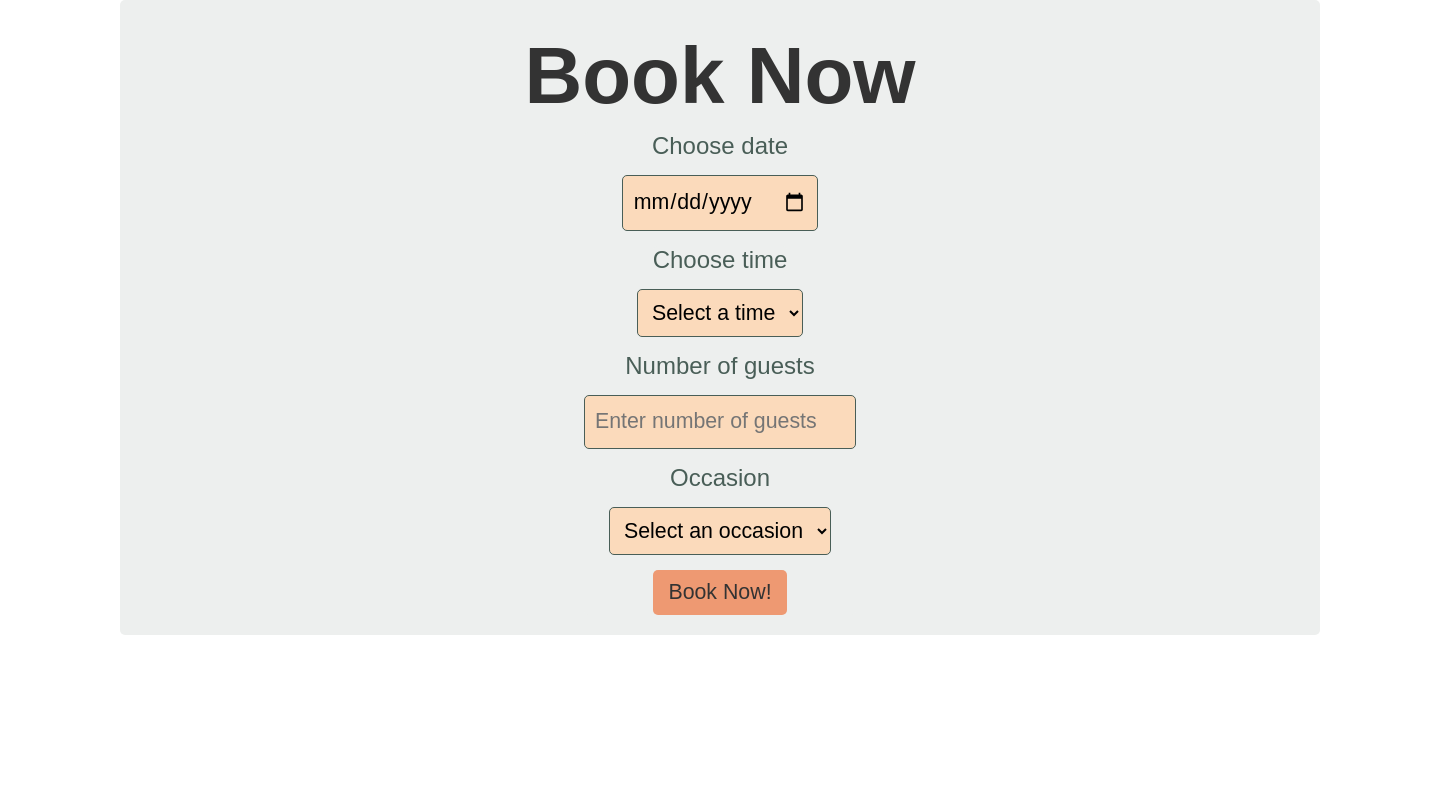
Scenario: validateGuests gives error for values below 1
Type "0" into the number field labelled "Number of guests".
click(720, 422); type("0")  # box [584,395,856,449]
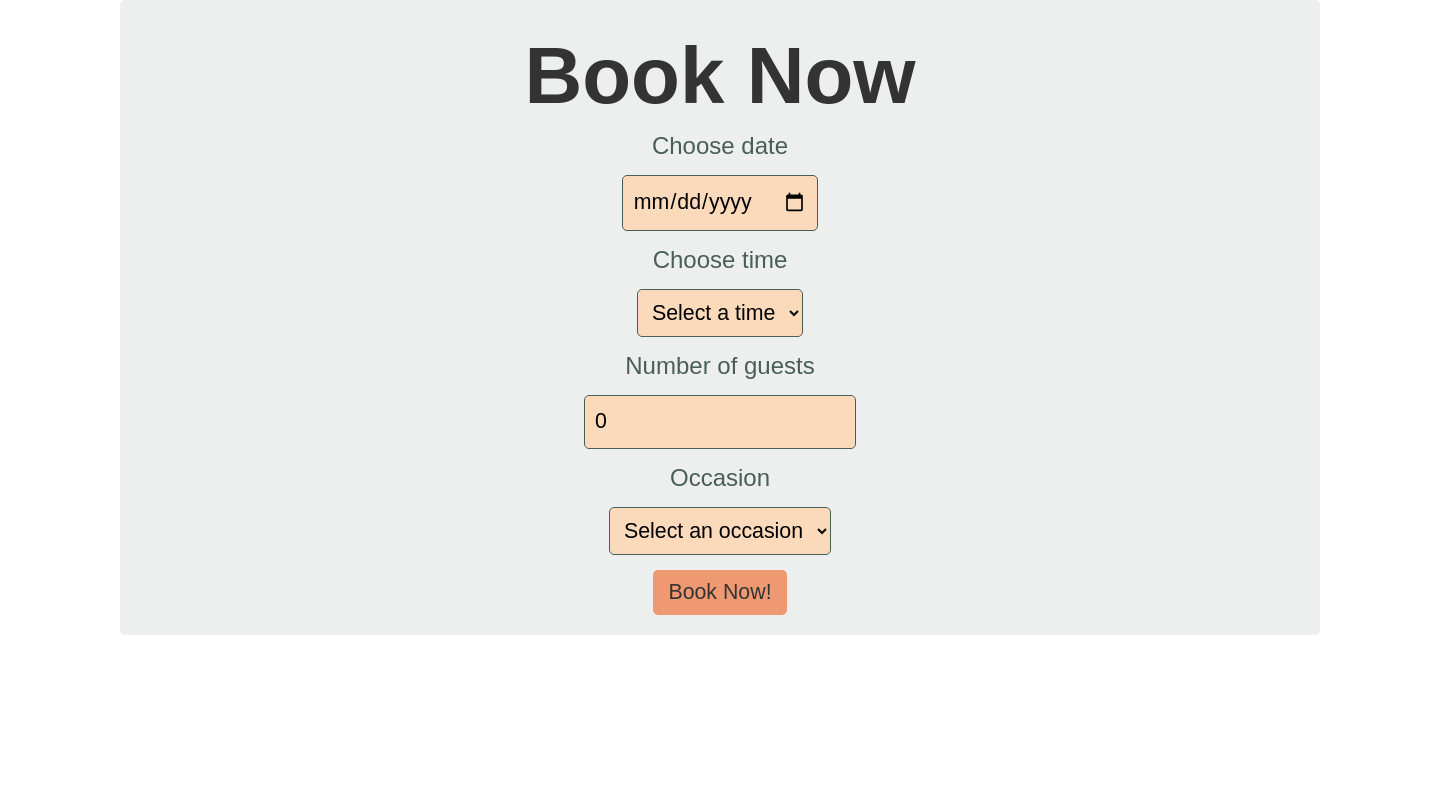
Leave the number field labelled "Number of guests", box [584,395,856,449]
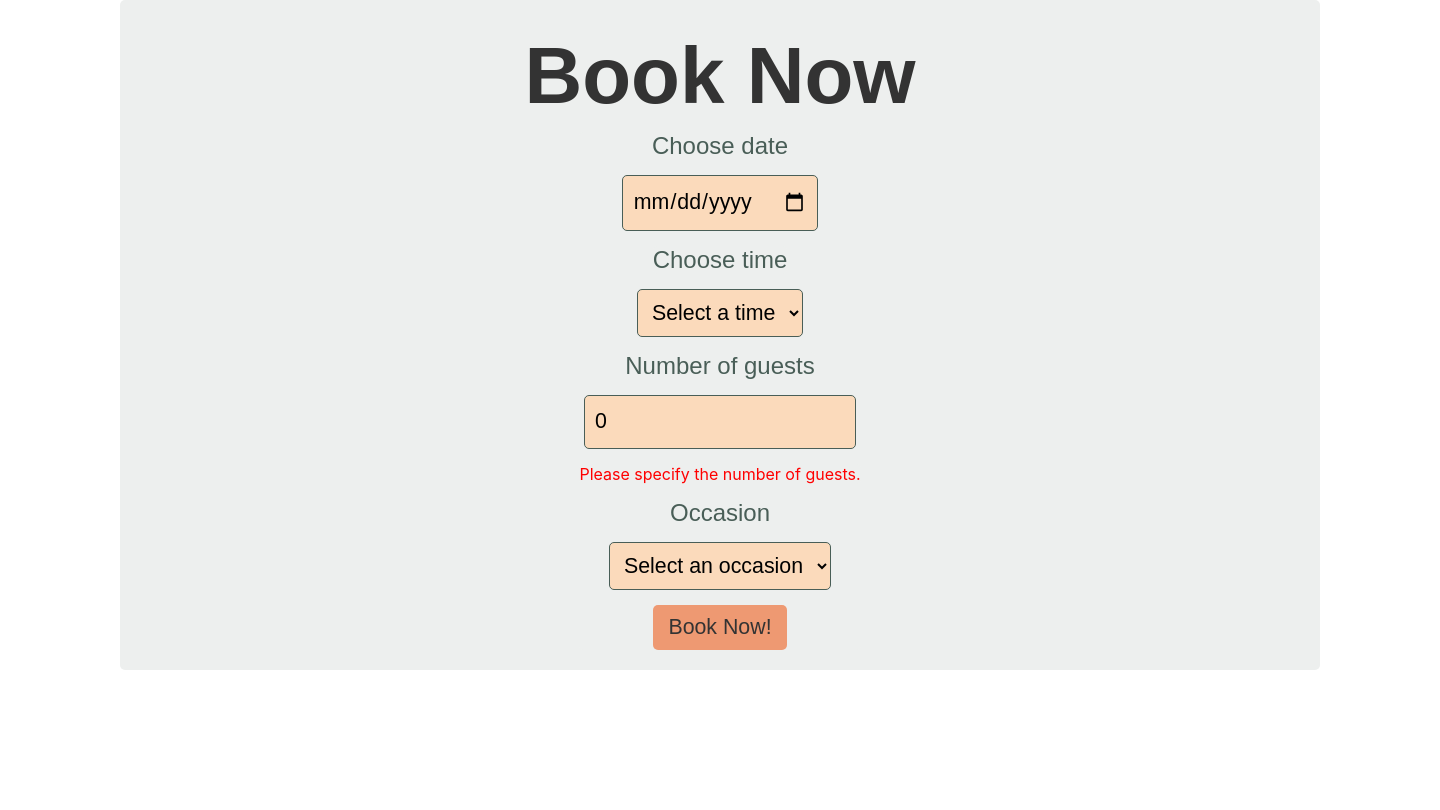
Now the text "Please specify the number of guests." is shown, box [579,464,860,484]
